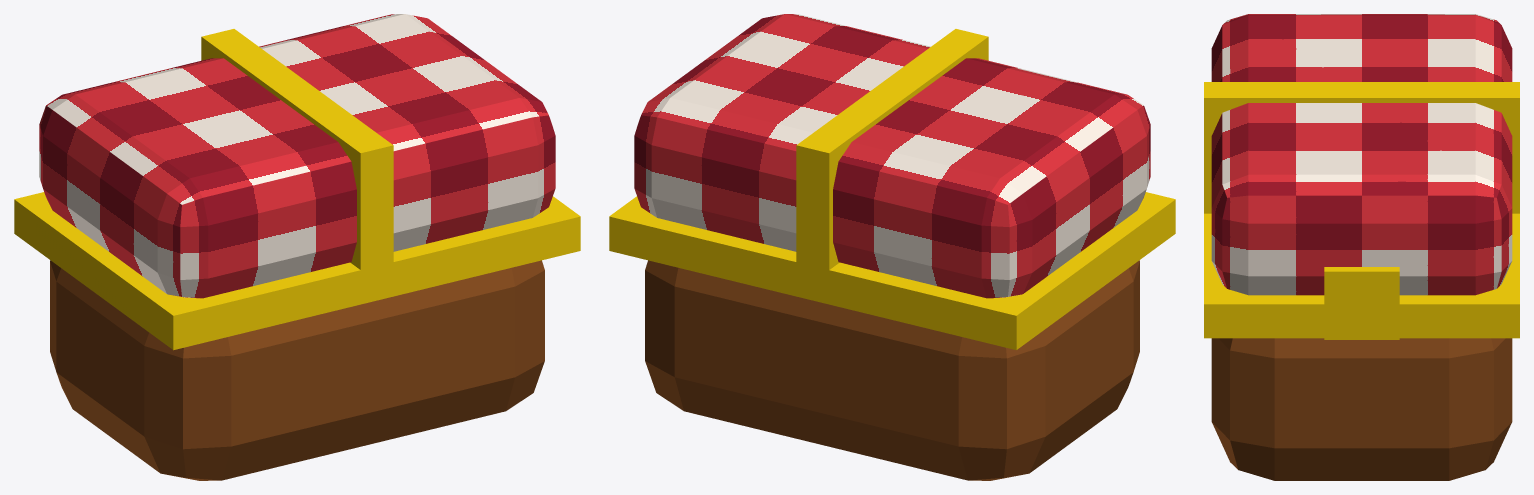
File: chest.glb
The picture shows the model from 3 angles, left to right: view 1: azimuth 30°, elevation 25°; view 2: azimuth 150°, elevation 25°; view 3: azimuth 270°, elevation 25°; orthographic projection.
Visible parts, largest first — view 1: p_rbox.084, p_rbox.083, p_box.824, p_box.825; view 2: p_rbox.084, p_rbox.083, p_box.824, p_box.825; view 3: p_rbox.084, p_rbox.083, p_box.824, p_box.825, p_box.826.
Part boxes in pixels (bbox=[...]): p_rbox.084: bbox=[39, 14, 555, 298]; p_rbox.083: bbox=[50, 260, 544, 480]; p_box.824: bbox=[14, 192, 580, 350]; p_box.825: bbox=[201, 29, 393, 283]; p_rbox.084: bbox=[634, 14, 1150, 298]; p_rbox.083: bbox=[645, 260, 1139, 480]; p_box.824: bbox=[609, 192, 1175, 350]; p_box.825: bbox=[796, 29, 988, 283]; p_rbox.084: bbox=[1211, 14, 1512, 295]; p_rbox.083: bbox=[1211, 338, 1512, 480]; p_box.824: bbox=[1204, 213, 1519, 338]; p_box.825: bbox=[1204, 82, 1519, 213]; p_box.826: bbox=[1324, 267, 1399, 339].
Size of the model in its own units: 1.25 by 0.94 by 0.84.
3 materials, 1 textured.
